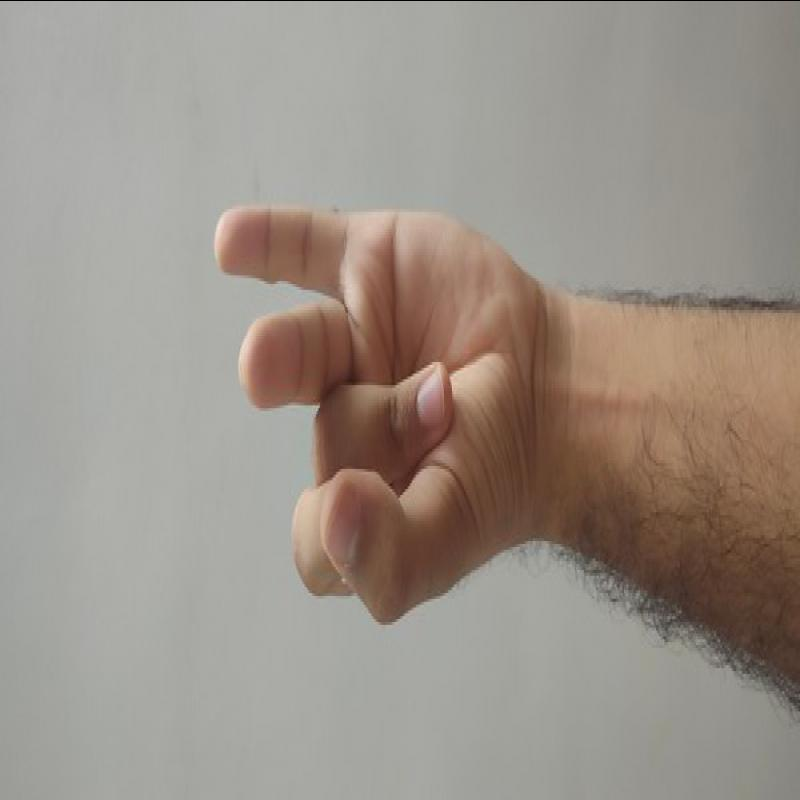Katakam: (198, 164, 566, 635)
